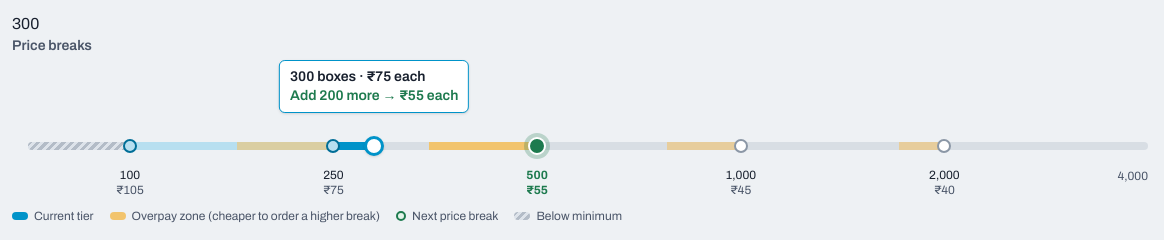
Test: tier slider › FR-A3: tapping a breakpoint sets exactly that quantity
This screenshot has width=1164, height=240.
Click the button named "2,000 or more". click: (944, 186)
box: [925,168,964,204]
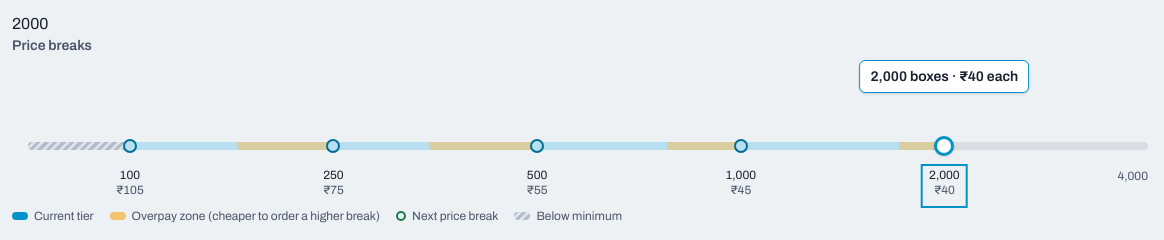
Result: the text with test id "qty" reads "2000" at [12,15,48,32]
Press the mouse on the slider at (588, 146), box [28,136,1148,156]
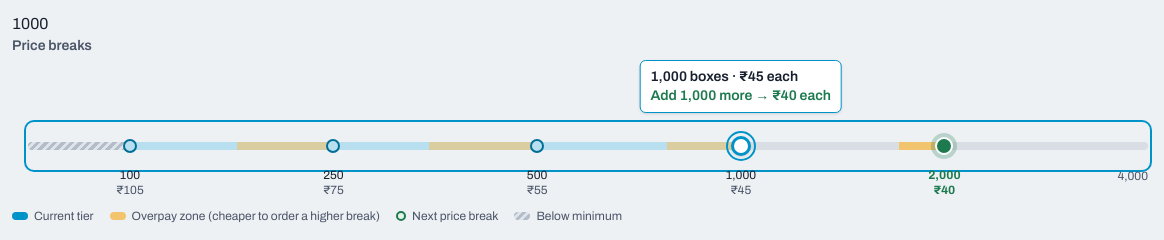
Result: the text with test id "qty" reads "1000" at [12,15,48,32]
